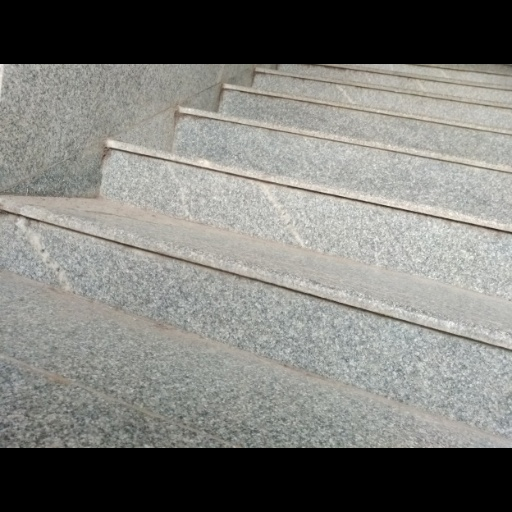Stairs: (0, 66, 512, 446)
